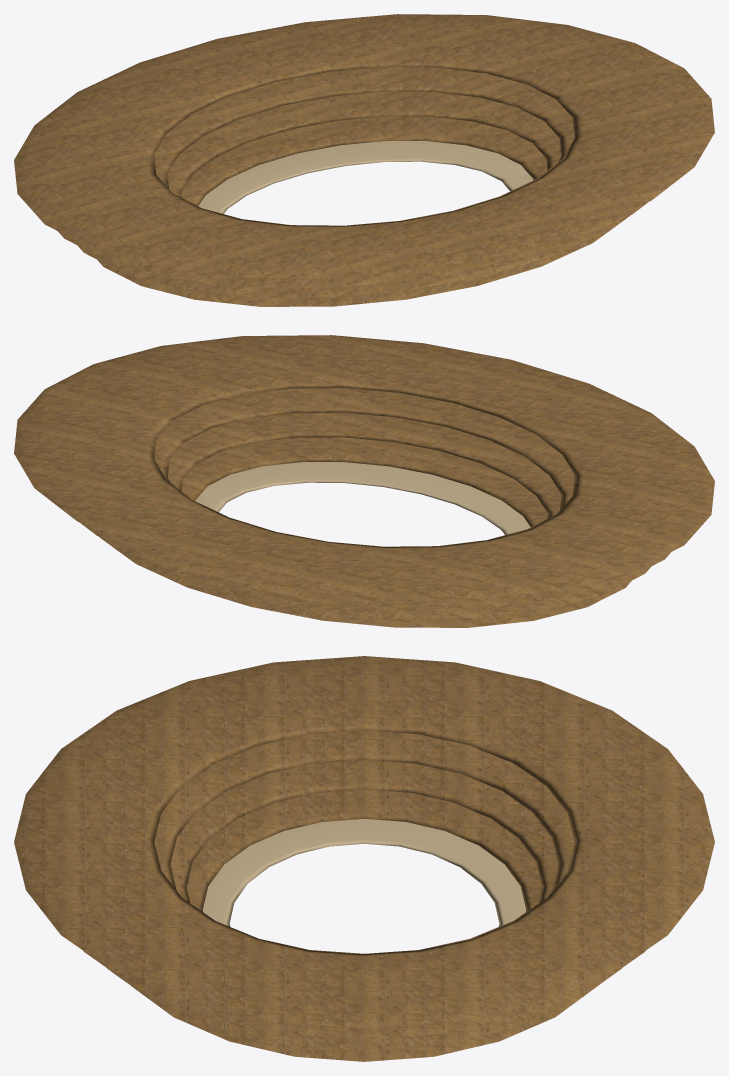
Rendered from estadio.glb.
3 views of the same model, one above another, from view 1: azimuth 30°, elevation 25°; view 2: azimuth 150°, elevation 25°; view 3: azimuth 270°, elevation 25° (orthographic). The views are drawn at different scales.
Parts seen in each view (by area): view 1: Arquibancada.003, Arquibancada.002, Arquibancada.001, Arquibancada, Pista; view 2: Arquibancada.003, Arquibancada.002, Arquibancada.001, Arquibancada, Pista; view 3: Arquibancada.003, Arquibancada.002, Arquibancada.001, Arquibancada, Pista.
Part boxes in pixels (box(x1,y1,x2,y2)): Arquibancada.003: box(14, 14, 714, 278); Arquibancada.002: box(58, 67, 647, 287); Arquibancada.001: box(77, 91, 629, 297); Arquibancada: box(97, 116, 627, 306); Pista: box(198, 141, 533, 213); Arquibancada.003: box(14, 335, 714, 599); Arquibancada.002: box(81, 388, 670, 608); Arquibancada.001: box(99, 412, 651, 618); Arquibancada: box(101, 437, 631, 627); Pista: box(195, 462, 530, 534); Arquibancada.003: box(14, 656, 714, 1028); Arquibancada.002: box(83, 730, 645, 1039); Arquibancada.001: box(107, 760, 621, 1050); Arquibancada: box(134, 789, 594, 1061); Pista: box(203, 819, 525, 926).
Bounding box in the file's own units: 8.82 × 0.9585 × 7.02.
Materials: 2 (1 with a texture image).
